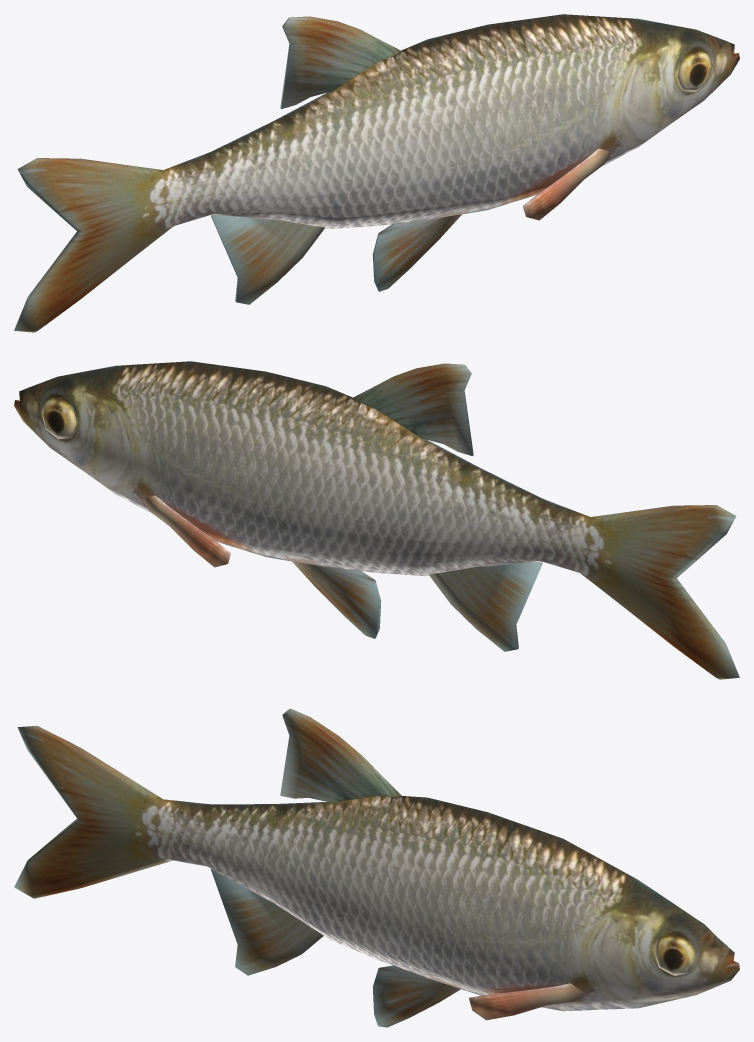
File: rudd.glb
The picture shows the model from 3 angles, top to bottom: view 1: azimuth 30°, elevation 25°; view 2: azimuth 150°, elevation 25°; view 3: azimuth 330°, elevation 25°; orthographic projection.
Visible parts, largest first — view 1: fish_body, fin_1, fin_2, fin_4, fin_3, fish_eye; view 2: fish_body, fin_1, fin_2, fin_4, fin_3, fish_eye; view 3: fish_body, fin_1, fin_2, fin_4, fin_3, fish_eye.
Boxes of the visible parts, x1,y1,x2,y2 form: fish_body: [14, 14, 739, 332]; fin_1: [280, 16, 402, 108]; fin_2: [211, 215, 324, 304]; fin_4: [372, 214, 461, 291]; fin_3: [523, 148, 610, 220]; fish_eye: [677, 50, 712, 92]; fish_body: [14, 361, 739, 679]; fin_1: [351, 363, 473, 455]; fin_2: [429, 562, 542, 651]; fin_4: [292, 561, 381, 638]; fin_3: [143, 495, 230, 567]; fish_eye: [41, 397, 76, 439]; fish_body: [14, 725, 739, 1011]; fin_1: [280, 708, 401, 802]; fin_2: [211, 869, 323, 975]; fin_4: [372, 965, 460, 1027]; fin_3: [469, 983, 584, 1020]; fish_eye: [654, 933, 695, 975].
Size of the model in its own units: 1 by 0.3893 by 0.1313.
Materials: 1 (1 with a texture image).
